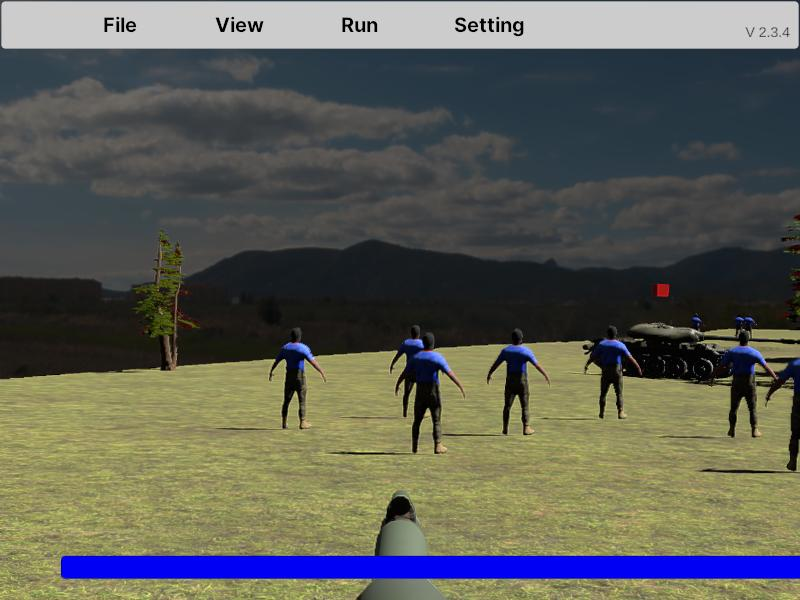Human: (394, 332, 465, 456), (712, 330, 778, 440), (487, 328, 550, 436), (268, 327, 326, 431), (389, 324, 447, 419), (584, 328, 643, 420), (765, 329, 800, 476)
Tank: (583, 322, 800, 385)
